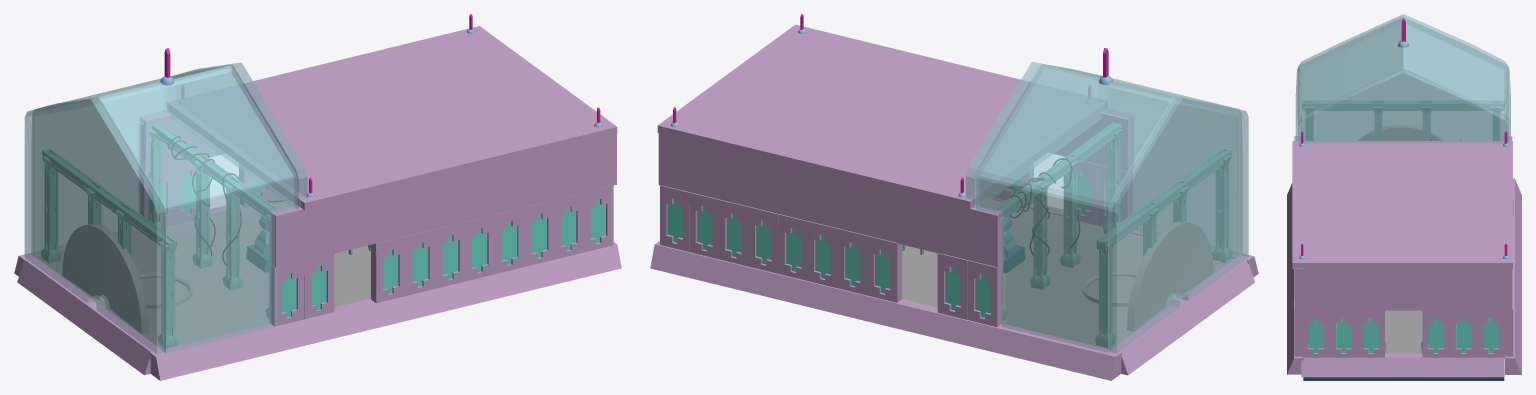
The model's file is TempleExteriorWeek4.fbx.
3 views of the same model, side by side, from view 1: azimuth 30°, elevation 25°; view 2: azimuth 150°, elevation 25°; view 3: azimuth 270°, elevation 25° (orthographic). The views are drawn at different scales.
Visible parts, largest first — view 1: pCube242, pCube239, pCube240, pCube238, pCube236, pCube237, polySurface622, pCube241, Column_L46, pCylinder74, pCube233, polySurface651 (+18 smaller); view 2: pCube242, pCube237, pCube240, pCube243, pCube234, polySurface622, pCube239, pCube241, Column_L46, pCylinder74, pCube233, polySurface612 (+18 smaller); view 3: pCube242, pCube240, pCube241, pCube231, pCube239, pCube237, pCube230, Column_L46, pCube234, polySurface622, pCube236, polySurface598 (+13 smaller).
Part boxes in pixels (bbox=[...]): pCube242: bbox=[169, 26, 617, 210]; pCube239: bbox=[97, 65, 297, 353]; pCube240: bbox=[24, 97, 165, 353]; pCube238: bbox=[270, 134, 616, 267]; pCube236: bbox=[150, 242, 621, 380]; pCube237: bbox=[31, 65, 232, 257]; polySurface622: bbox=[38, 199, 370, 349]; pCube241: bbox=[167, 62, 307, 207]; Column_L46: bbox=[41, 148, 178, 348]; pCylinder74: bbox=[62, 224, 148, 333]; pCube233: bbox=[17, 257, 160, 375]; polySurface651: bbox=[269, 261, 304, 326]; pCube242: bbox=[657, 24, 1104, 208]; pCube237: bbox=[976, 65, 1176, 352]; pCube240: bbox=[1108, 97, 1248, 353]; pCube243: bbox=[658, 133, 1003, 267]; pCube234: bbox=[650, 241, 1121, 380]; polySurface622: bbox=[902, 199, 1234, 348]; pCube239: bbox=[1041, 64, 1242, 256]; pCube241: bbox=[966, 62, 1106, 207]; Column_L46: bbox=[1095, 148, 1232, 347]; pCylinder74: bbox=[1127, 221, 1212, 331]; pCube233: bbox=[1111, 257, 1254, 375]; polySurface612: bbox=[867, 235, 902, 302]; pCube242: bbox=[1292, 141, 1512, 268]; pCube240: bbox=[1298, 14, 1508, 140]; pCube241: bbox=[1298, 69, 1508, 142]; pCube231: bbox=[1303, 267, 1506, 310]; pCube239: bbox=[1295, 17, 1406, 140]; pCube237: bbox=[1400, 17, 1510, 140]; pCube230: bbox=[1301, 353, 1504, 377]; Column_L46: bbox=[1302, 100, 1504, 140]; pCube234: bbox=[1505, 178, 1521, 374]; polySurface622: bbox=[1336, 310, 1488, 353]; pCube236: bbox=[1287, 183, 1303, 374]; polySurface598: bbox=[1329, 310, 1357, 357].
Bounding box in the file's own units: 36.99 × 20.03 × 19.83.
